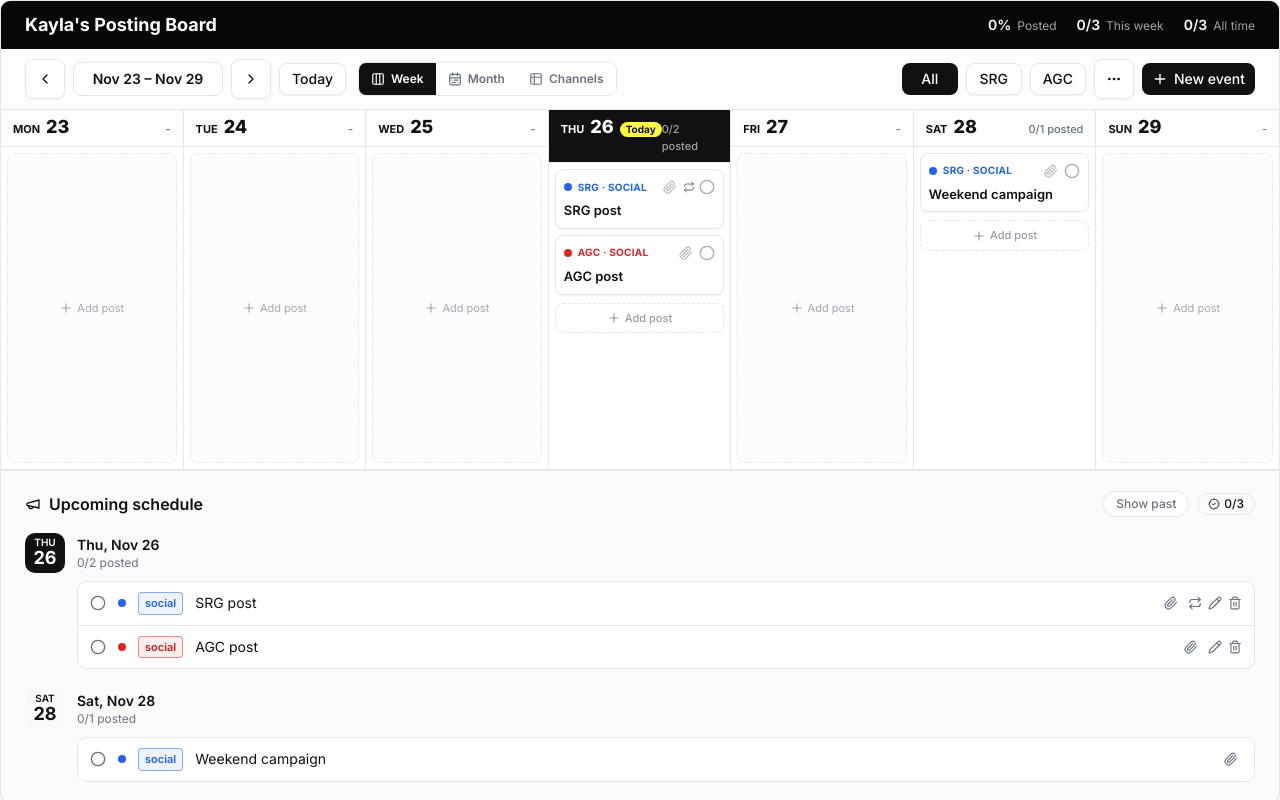
MarketingCalendar controls › opens a separate file attachment space for an event
Expected: the heading "Kayla's Posting Board" is shown, [25, 11, 217, 39]
Click the 2nd button named "Attach a file" at coordinates (670, 187), box [661, 178, 679, 196]
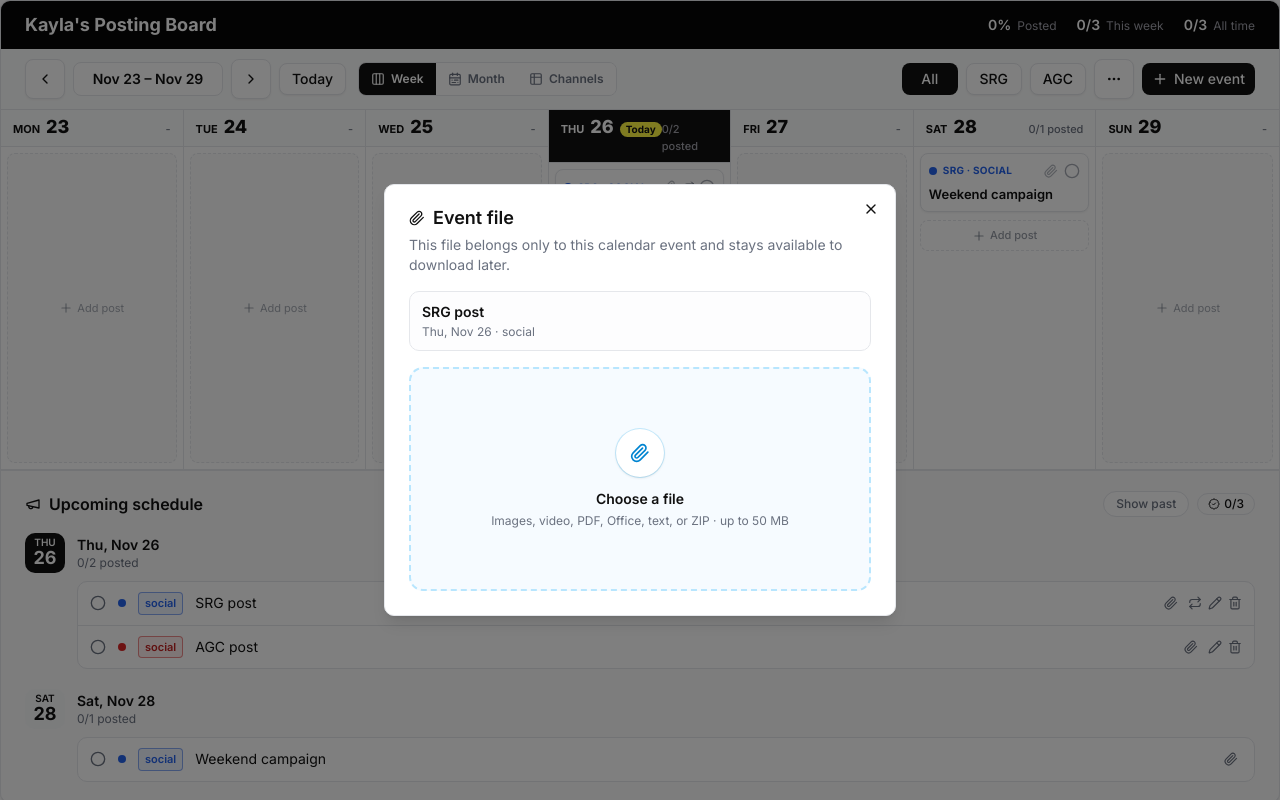
Expected: the text "belongs only to this calendar event" is shown, [409, 236, 842, 273]
Expected: the button "Choose a file" is shown, [409, 367, 871, 591]
Expected: the text "Images, video, PDF, Office, text, or ZIP · up to 50 MB" is shown, [491, 513, 789, 529]
